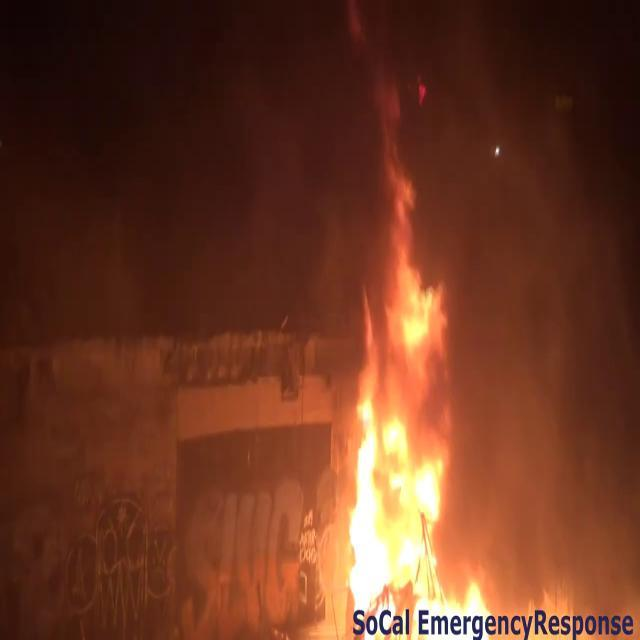Fire: (318, 339, 480, 633)
Smoke: (423, 2, 640, 559)
